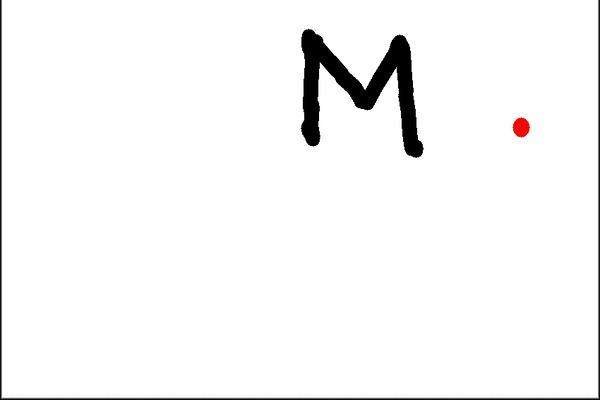M: (298, 22, 426, 160)
